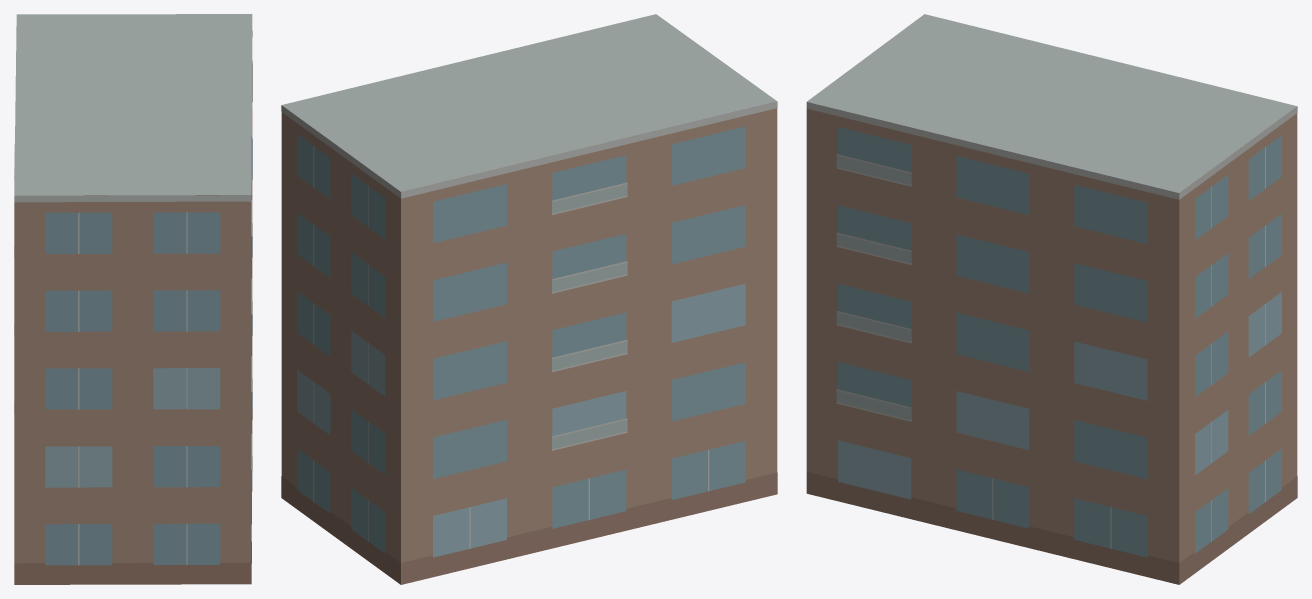
Rendered from survey-upis-32885335.glb.
The picture shows the model from 3 angles, left to right: view 1: azimuth 30°, elevation 25°; view 2: azimuth 150°, elevation 25°; view 3: azimuth 270°, elevation 25°; orthographic projection.
Parts seen in each view (by area): view 1: survey-upis-32885335.tmp; view 2: survey-upis-32885335.tmp; view 3: survey-upis-32885335.tmp.
Boxes of the visible parts, left/top/right/bottom form: survey-upis-32885335.tmp: left=14, top=14, right=252, bottom=584; survey-upis-32885335.tmp: left=281, top=14, right=777, bottom=584; survey-upis-32885335.tmp: left=806, top=14, right=1297, bottom=584.
Bounding box in the file's own units: 14.03 × 14.3 × 16.25.
